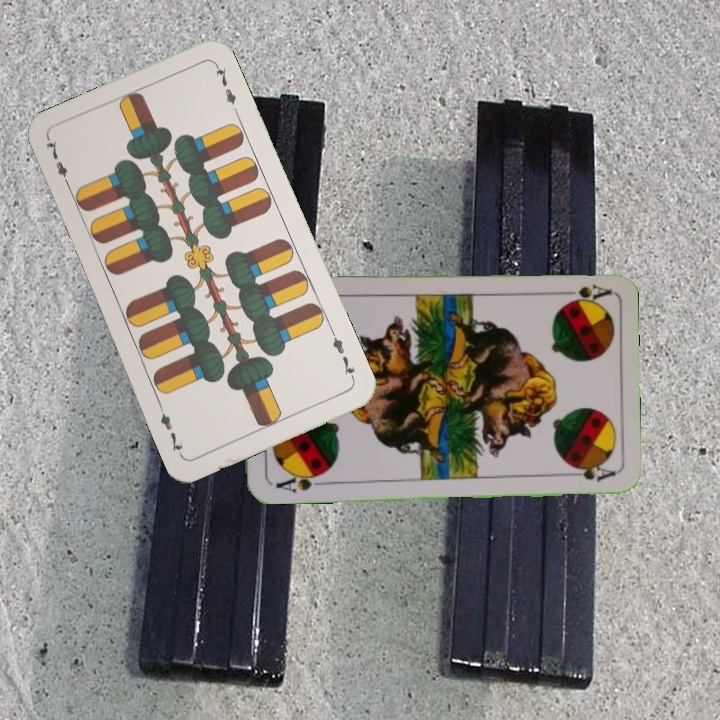E7: (42, 135, 74, 191), (327, 328, 358, 384)
SA: (271, 468, 325, 495), (553, 280, 612, 304)
